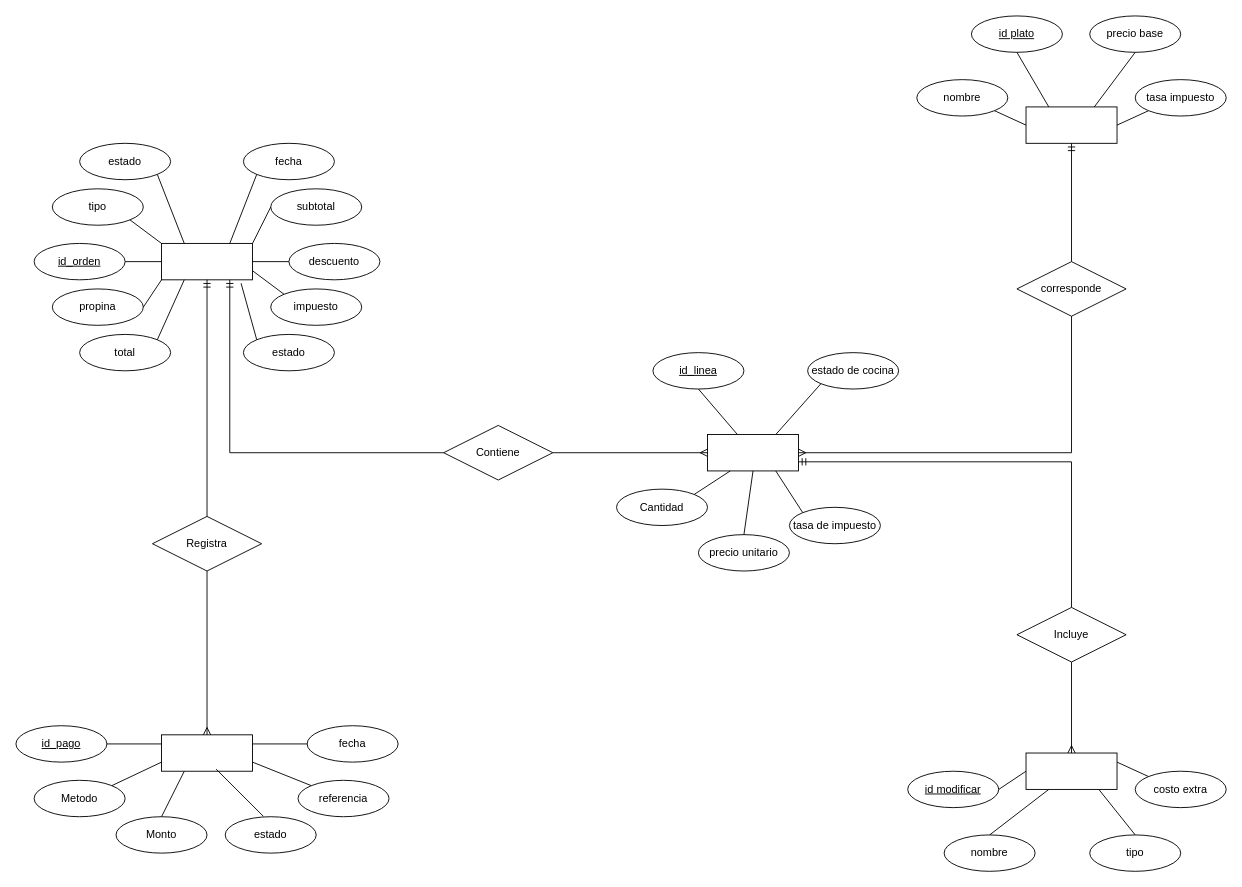
This 1242x887 diagram has some shape labels left out. Here are the shapes that lost their labels. From the top down, the centre of each, then its label:
At point 1071,124: "Plato".
At point 207,261: "Orden".
At point 753,452: "Linea_Pedido".
At point 207,752: "Pago".
At point 1071,770: "Modificar".
